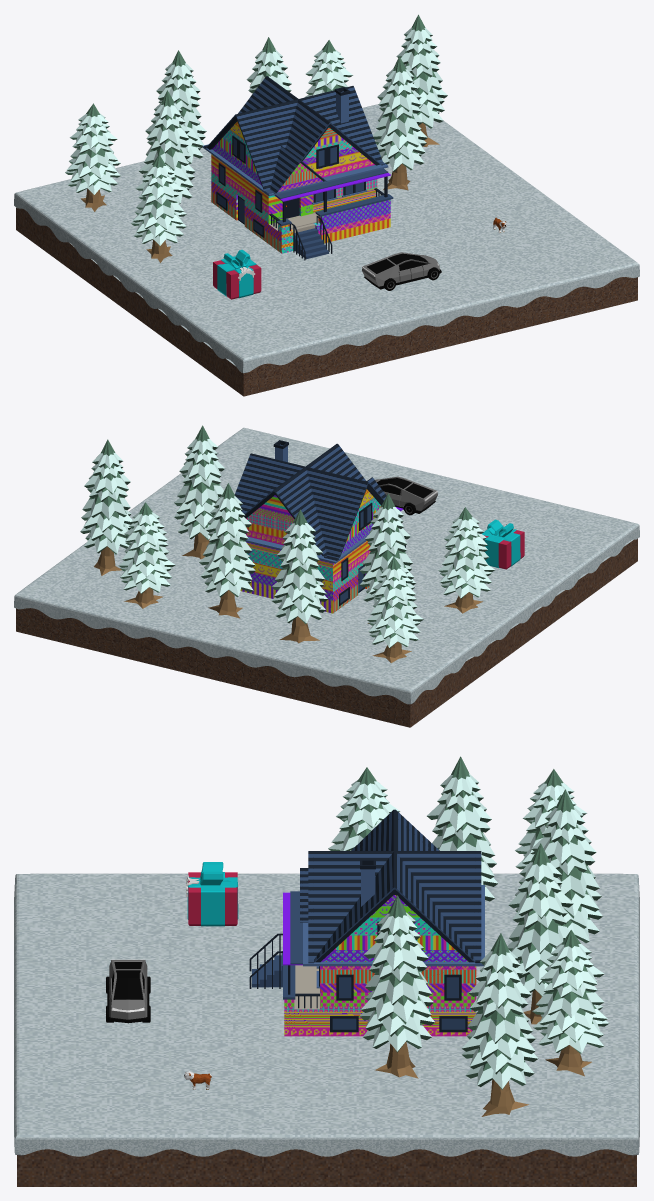
The picture shows the model from 3 angles, top to bottom: view 1: azimuth 30°, elevation 25°; view 2: azimuth 150°, elevation 25°; view 3: azimuth 270°, elevation 25°; orthographic projection. The views are drawn at different scales.
Parts seen in each view (by area): view 1: Cube.003, Cube.676, VEHICLES_CYBERTRUCK, OBJRANDOM_GIANT_PRESENT; view 2: Cube.003, Cube.676, OBJRANDOM_GIANT_PRESENT, VEHICLES_CYBERTRUCK; view 3: Cube.003, Cube.676, OBJRANDOM_GIANT_PRESENT, VEHICLES_CYBERTRUCK.
Part boxes in pixels (x1,y1,x2,y2): Cube.003: (14, 14, 639, 396); Cube.676: (202, 76, 393, 260); VEHICLES_CYBERTRUCK: (362, 252, 441, 290); OBJRANDOM_GIANT_PRESENT: (213, 249, 261, 299); Cube.003: (14, 425, 639, 727); Cube.676: (234, 440, 405, 613); OBJRANDOM_GIANT_PRESENT: (482, 519, 524, 569); VEHICLES_CYBERTRUCK: (375, 476, 437, 515); Cube.003: (14, 756, 639, 1186); Cube.676: (249, 809, 484, 1036); OBJRANDOM_GIANT_PRESENT: (186, 862, 238, 926); VEHICLES_CYBERTRUCK: (106, 959, 150, 1023).
Bounding box in the file's own units: 4040 × 1708 × 4040.
Materials: 34 (7 with a texture image).
